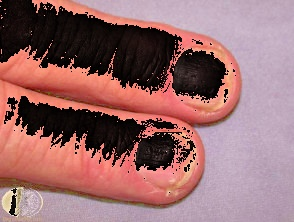Nail_psoriasis: (109, 103, 219, 214), (161, 39, 243, 120)
